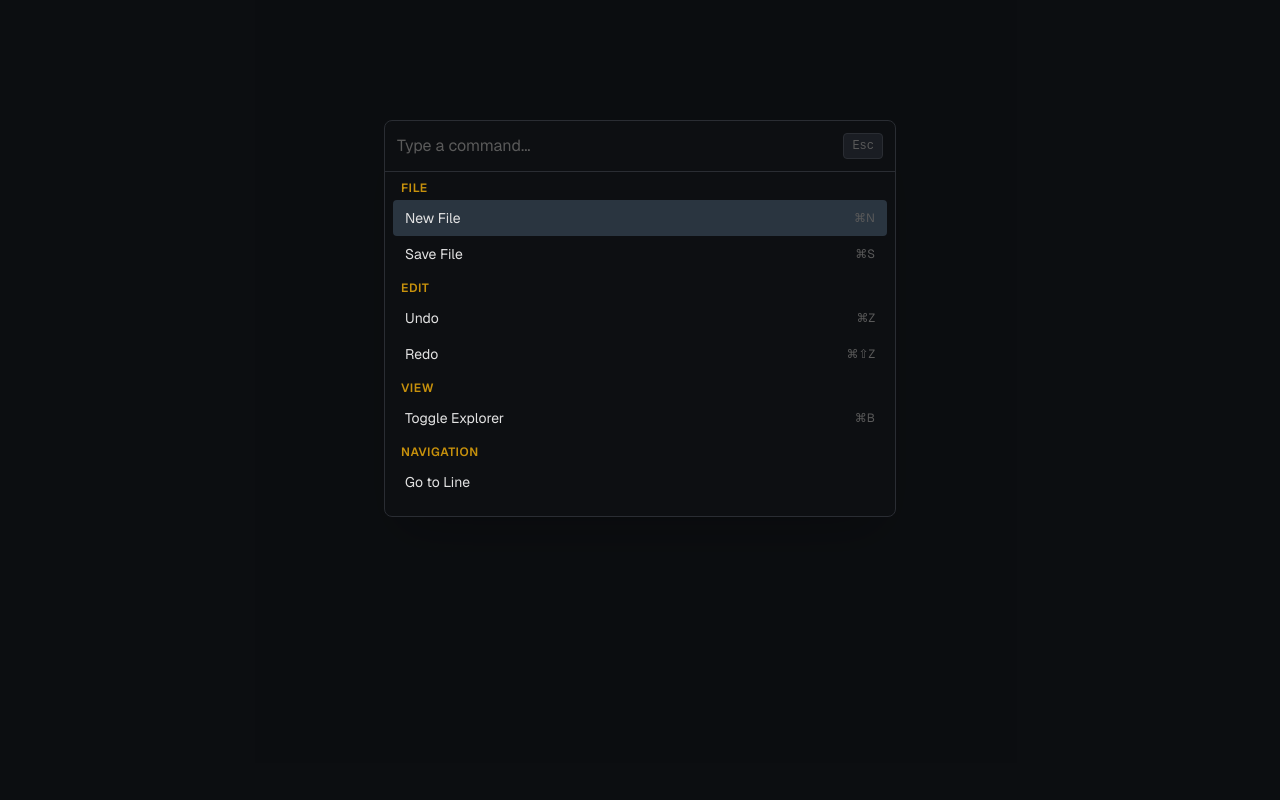
CommandPalette › Fuzzy Search Filtering › should filter commands by category
The image size is (1280, 800).
In the field with placeholder "Type a command...": (620, 146) [397,134,843,158], type "edit"
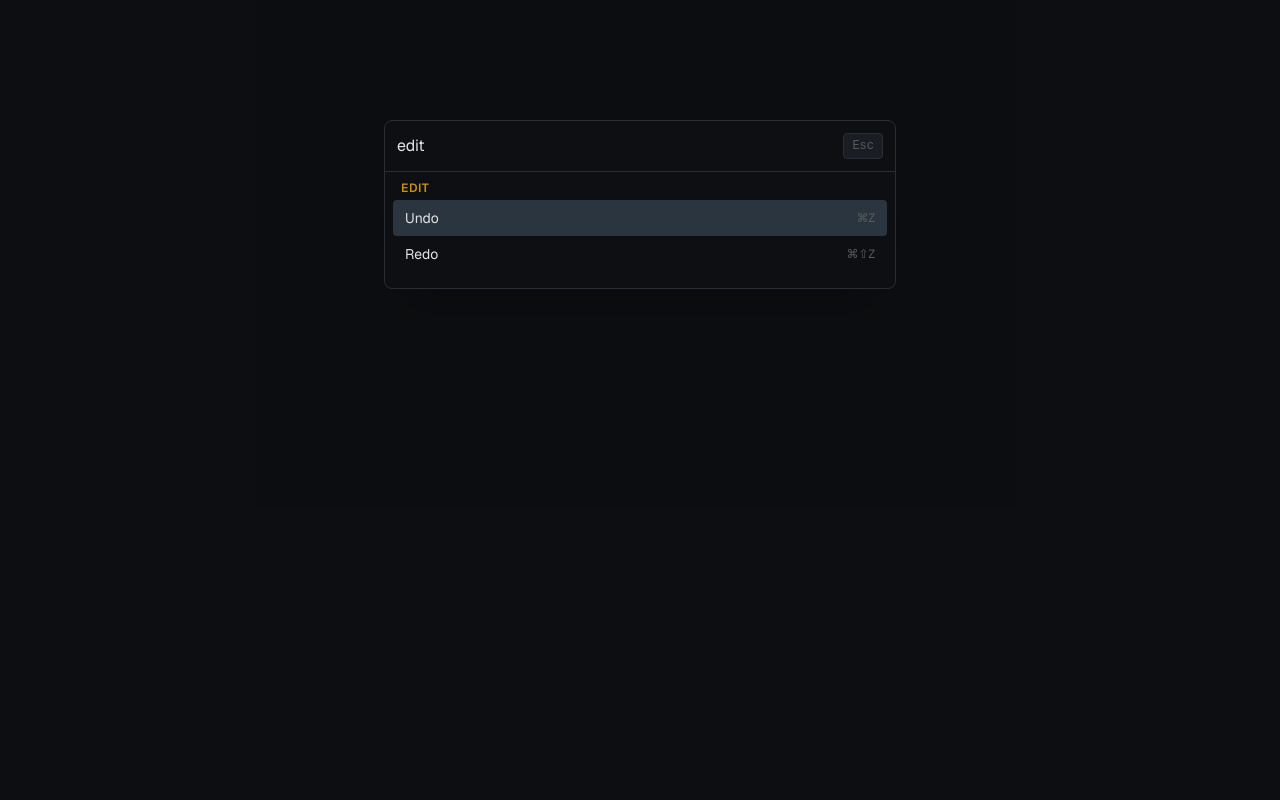
Expected: the text "Undo" is shown, [405,208,439,228]
Expected: the button "New File" is gone
Expected: the button "Save File" is gone
